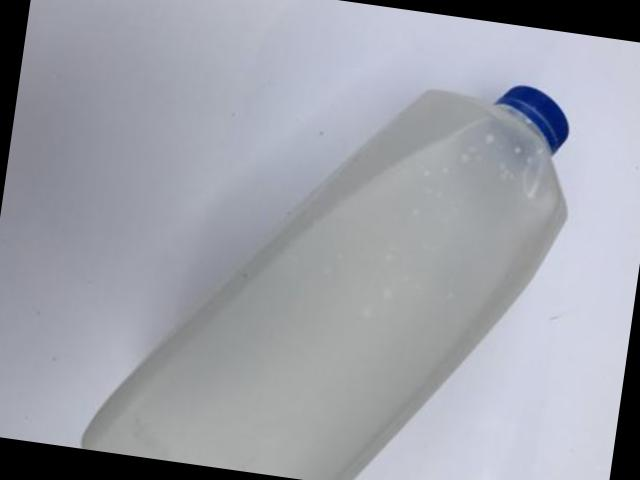plastic: (85, 87, 570, 480)
